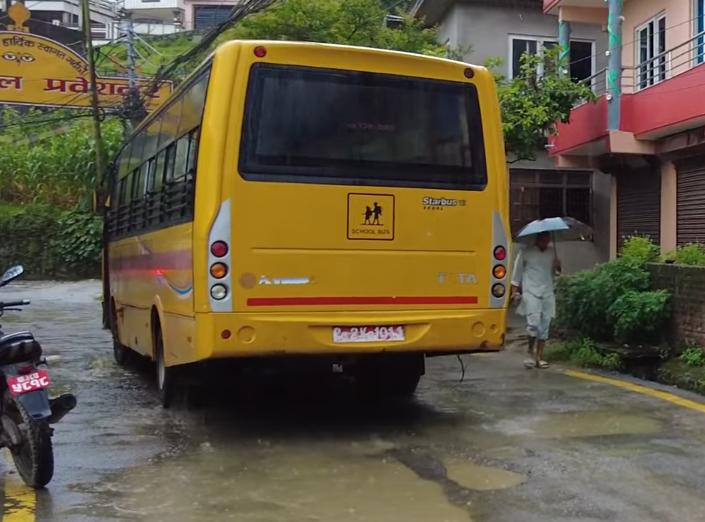bike: (0, 263, 78, 495)
school_bus: (101, 35, 530, 415)
